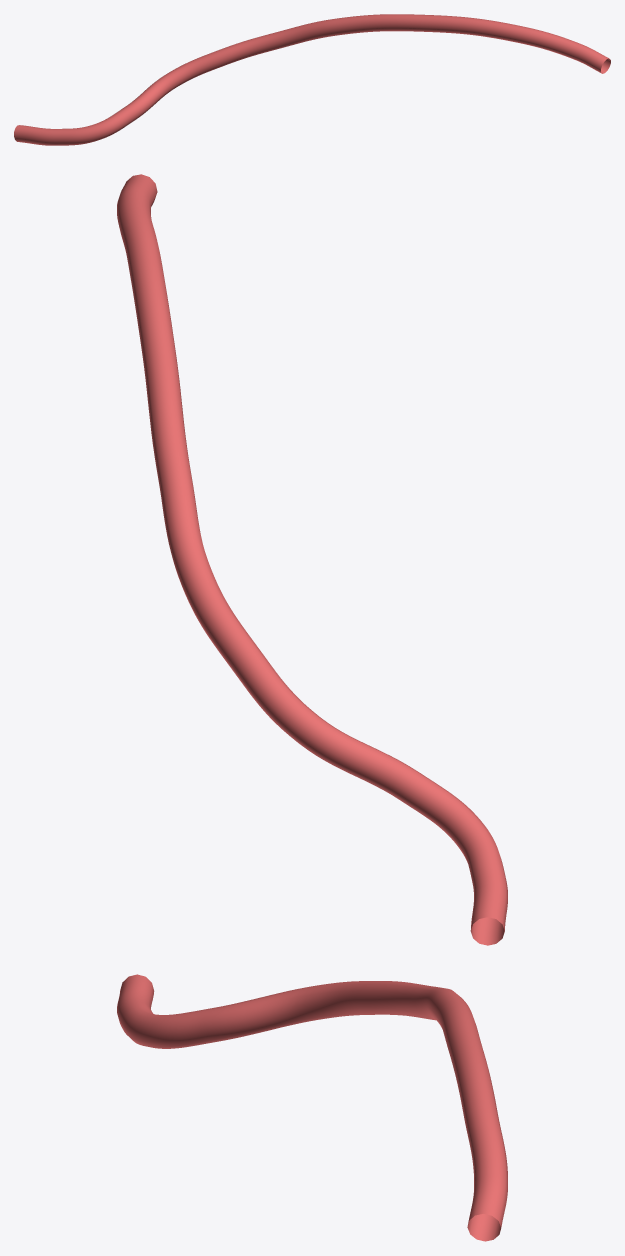
File: Lacrimal_artery.l_BezierCurve.094.glb
3 renders of one model, top to bottom at view 1: azimuth 30°, elevation 25°; view 2: azimuth 150°, elevation 25°; view 3: azimuth 330°, elevation 25°, orthographic. The views are drawn at different scales.
Visible parts, largest first — view 1: Lacrimal_artery.l_BezierCurve.094; view 2: Lacrimal_artery.l_BezierCurve.094; view 3: Lacrimal_artery.l_BezierCurve.094.
Part boxes in pixels (<box>): Lacrimal_artery.l_BezierCurve.094: <box>14,14,610,145</box>; Lacrimal_artery.l_BezierCurve.094: <box>117,174,507,945</box>; Lacrimal_artery.l_BezierCurve.094: <box>117,974,507,1241</box>.
Size of the model in its own units: 0.0267 by 0.00987 by 0.0247.
